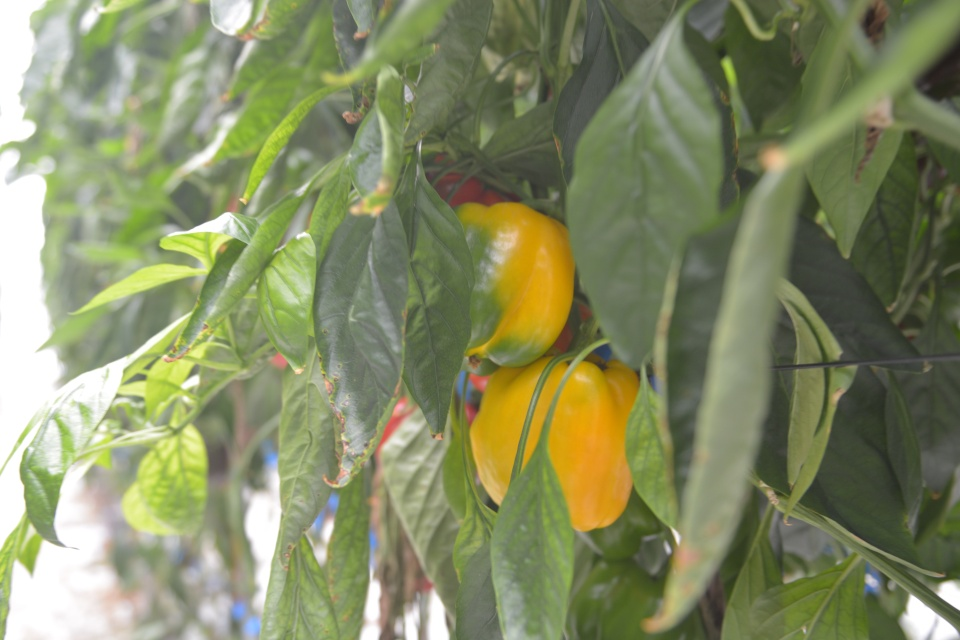fruit: (468, 346, 641, 532), (450, 200, 574, 369), (462, 301, 594, 426), (562, 561, 688, 640), (574, 482, 661, 561), (426, 151, 522, 206)
